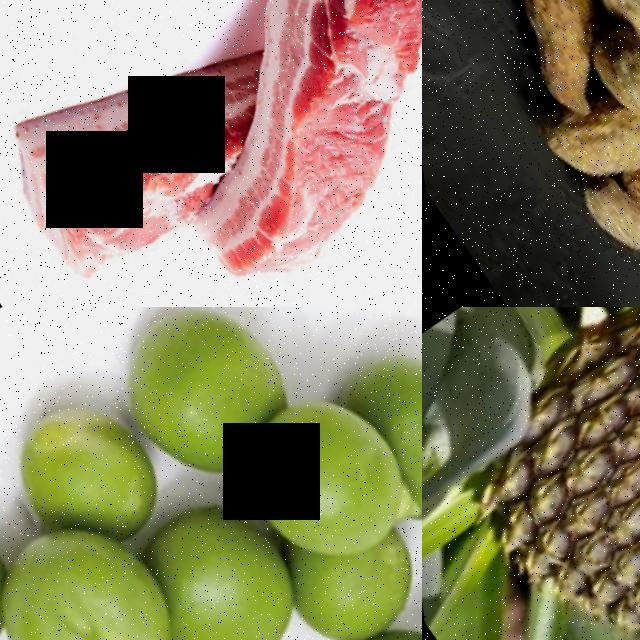peanuts: (517, 80, 640, 203), (559, 163, 640, 280), (489, 0, 607, 71), (507, 0, 640, 44)
peas: (0, 307, 422, 640)
pineapple: (422, 307, 640, 640)
pork belly: (0, 17, 278, 307), (152, 89, 415, 307), (177, 0, 422, 178)
